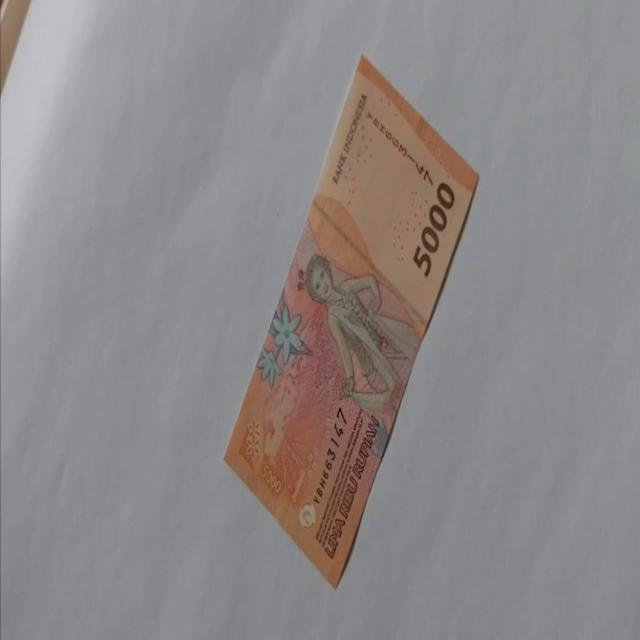lima ribu rupiah: (222, 52, 480, 590)
